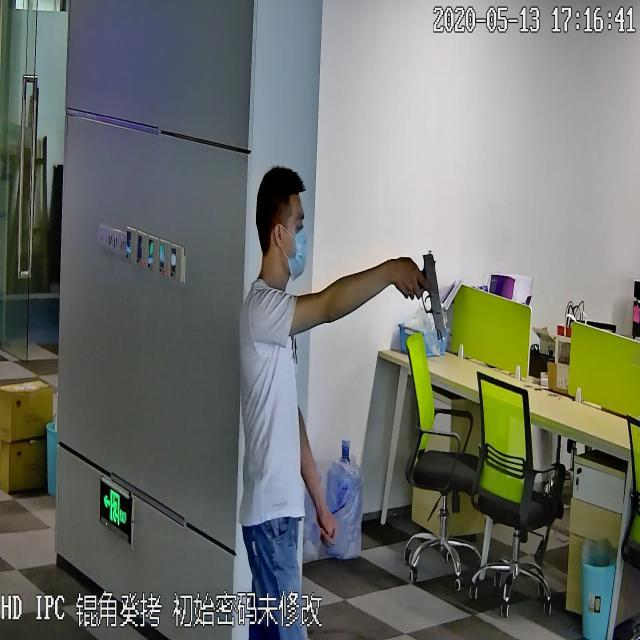gun: (401, 239, 451, 351)
